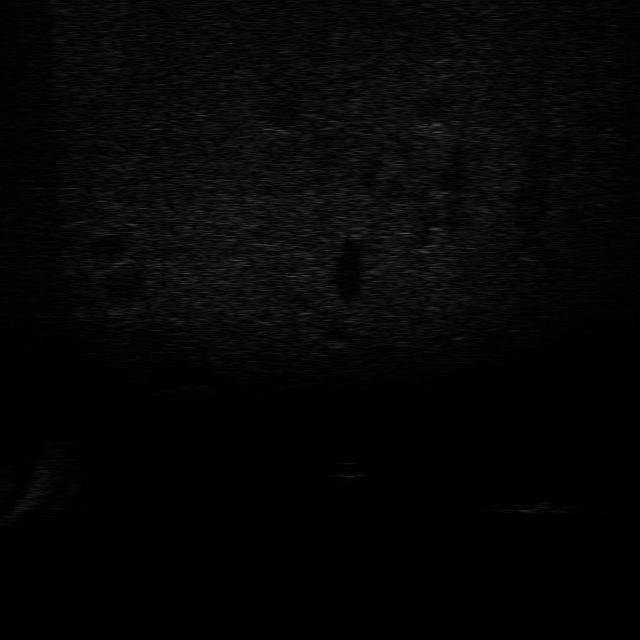ball: (325, 456, 370, 486)
square cage: (490, 496, 585, 520)
tyre: (424, 330, 481, 367)
